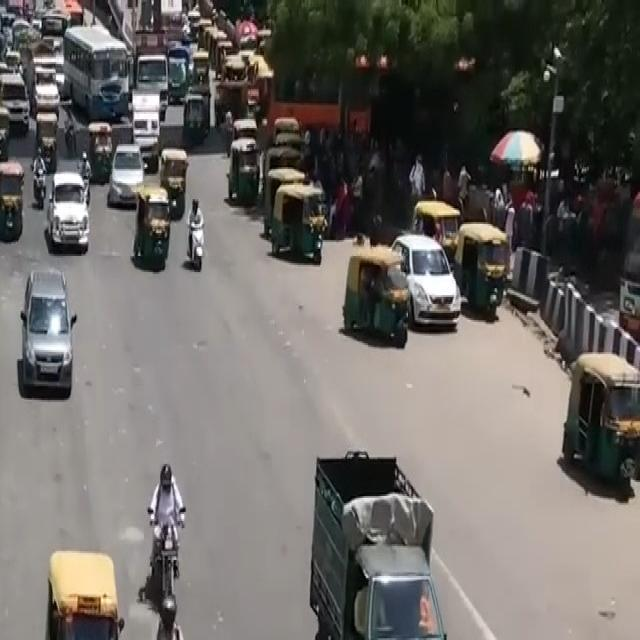car: (11, 260, 85, 406), (384, 224, 470, 336), (41, 166, 97, 260), (0, 306, 5, 460)
motorbike: (130, 448, 201, 640), (138, 586, 208, 640)
rickshaw: (545, 345, 640, 508), (24, 535, 142, 640)
van: (281, 405, 464, 640)
